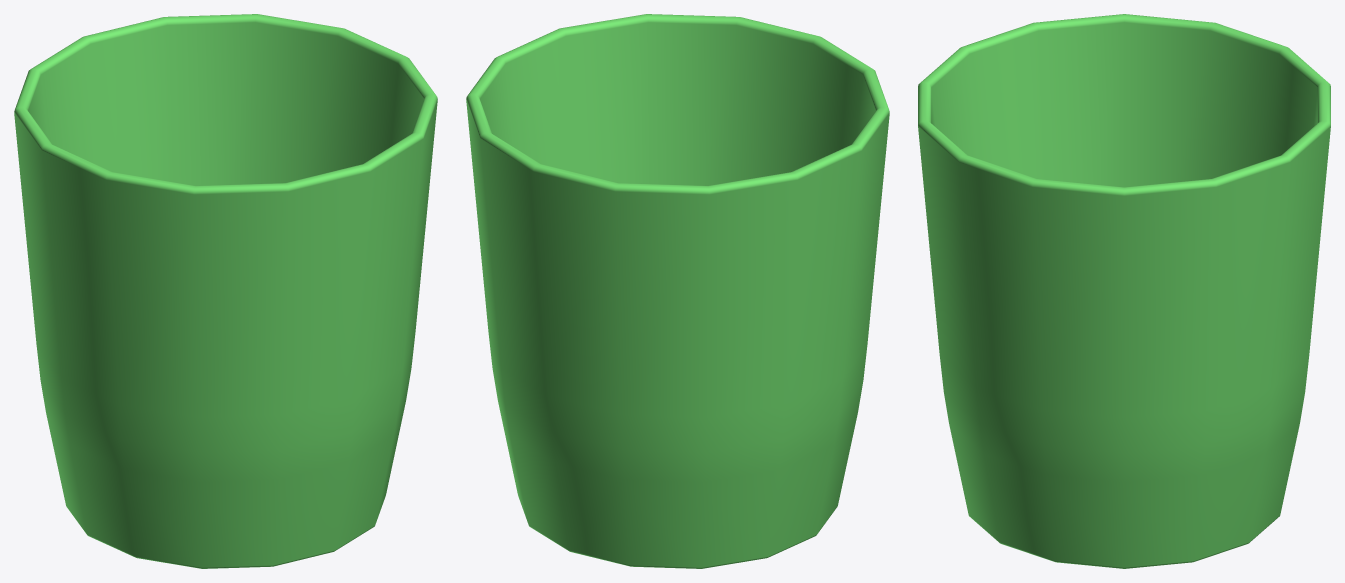
File: PR_cup2.fbx
3 views of the same model, side by side, from view 1: azimuth 30°, elevation 25°; view 2: azimuth 150°, elevation 25°; view 3: azimuth 270°, elevation 25° (orthographic).
Visible parts, largest first — view 1: cup2; view 2: cup2; view 3: cup2.
Boxes of the visible parts, box(x1,y1,x2,y2) form: cup2: box(14, 14, 437, 568); cup2: box(466, 14, 889, 568); cup2: box(918, 14, 1330, 568).
Bounding box in the file's own units: 1551 × 1619 × 1513.
1 material, 1 textured.
